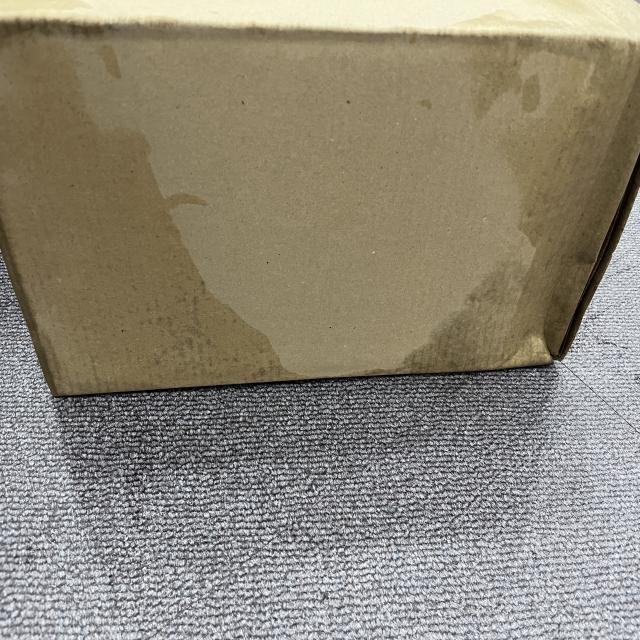wet: (0, 12, 262, 392), (438, 0, 640, 380)
